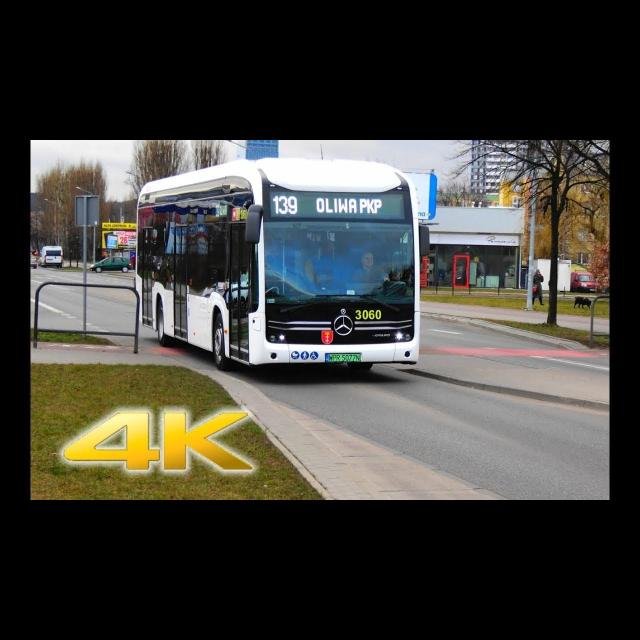Bus: (135, 157, 422, 370)
Tree: (491, 139, 608, 325)
